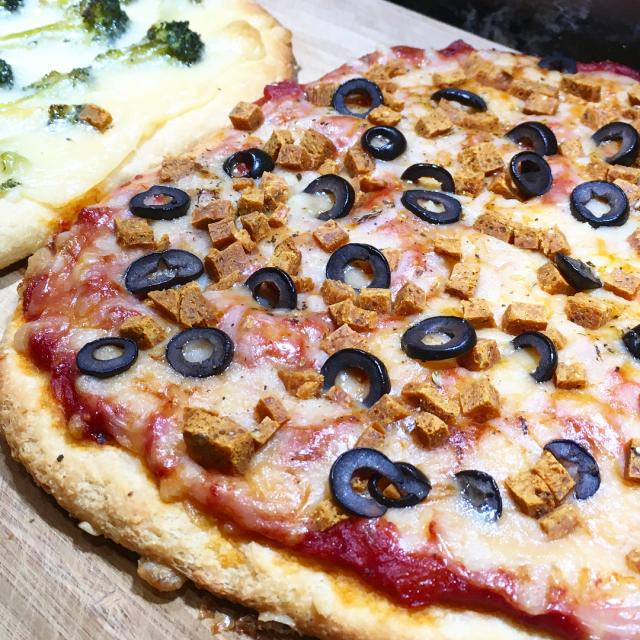black_olives: (328, 446, 396, 520), (316, 347, 391, 407), (164, 325, 236, 379), (122, 248, 205, 294), (400, 312, 476, 362), (325, 241, 392, 294), (544, 440, 603, 500), (74, 332, 141, 380), (567, 180, 631, 230), (301, 173, 360, 223), (364, 460, 430, 504), (244, 264, 300, 313), (129, 179, 194, 220), (397, 188, 465, 227), (456, 469, 503, 525), (510, 328, 557, 383), (329, 74, 385, 120), (588, 120, 640, 166), (506, 150, 555, 198), (549, 250, 603, 290), (360, 122, 410, 164), (505, 118, 561, 155), (220, 146, 276, 182), (402, 163, 458, 194), (427, 85, 489, 112), (623, 322, 640, 358)
pizza: (0, 42, 640, 640)
